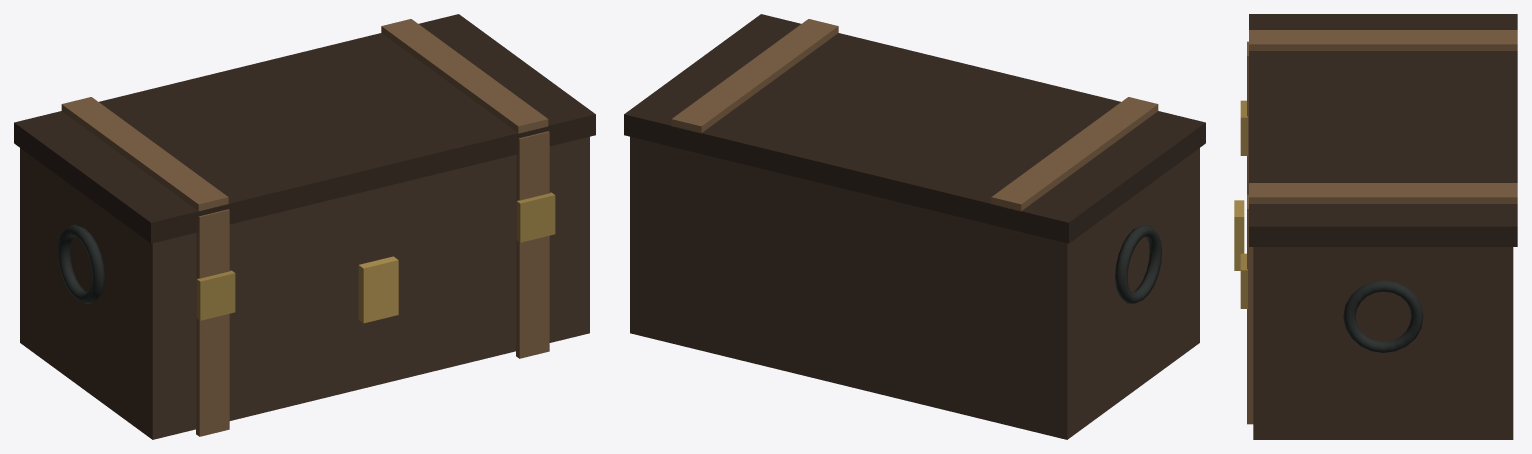
The model's file is obj-trunk.glb.
3 renders of one model, left to right at view 1: azimuth 30°, elevation 25°; view 2: azimuth 150°, elevation 25°; view 3: azimuth 270°, elevation 25°, orthographic. The views are drawn at different scales.
Visible parts, largest first — view 1: obj-trunk-leather, obj-trunk-woodDark, obj-trunk-woodLight, obj-trunk-brass, obj-trunk-iron; view 2: obj-trunk-leather, obj-trunk-woodDark, obj-trunk-woodLight, obj-trunk-iron; view 3: obj-trunk-woodDark, obj-trunk-leather, obj-trunk-woodLight, obj-trunk-iron, obj-trunk-brass.
Boxes of the visible parts, left/top/right/bottom form: obj-trunk-leather: left=20, top=136, right=589, bottom=439; obj-trunk-woodDark: left=14, top=14, right=595, bottom=243; obj-trunk-woodLight: left=61, top=19, right=549, bottom=436; obj-trunk-brass: left=196, top=192, right=555, bottom=323; obj-trunk-iron: left=57, top=224, right=104, bottom=304; obj-trunk-leather: left=630, top=136, right=1199, bottom=439; obj-trunk-woodDark: left=624, top=14, right=1205, bottom=243; obj-trunk-woodLight: left=671, top=19, right=1158, bottom=211; obj-trunk-iron: left=1115, top=224, right=1162, bottom=304; obj-trunk-woodDark: left=1249, top=14, right=1517, bottom=246; obj-trunk-leather: left=1253, top=247, right=1513, bottom=439; obj-trunk-woodLight: left=1247, top=30, right=1517, bottom=424; obj-trunk-iron: left=1343, top=280, right=1423, bottom=353; obj-trunk-brass: left=1234, top=100, right=1247, bottom=308.
Bounding box in the file's own units: 1.83 × 0.886 × 1.
